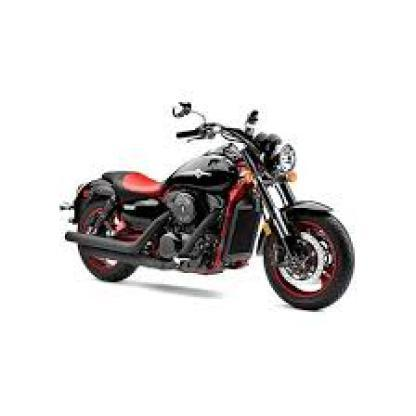Motorcycle: (58, 96, 357, 320)
